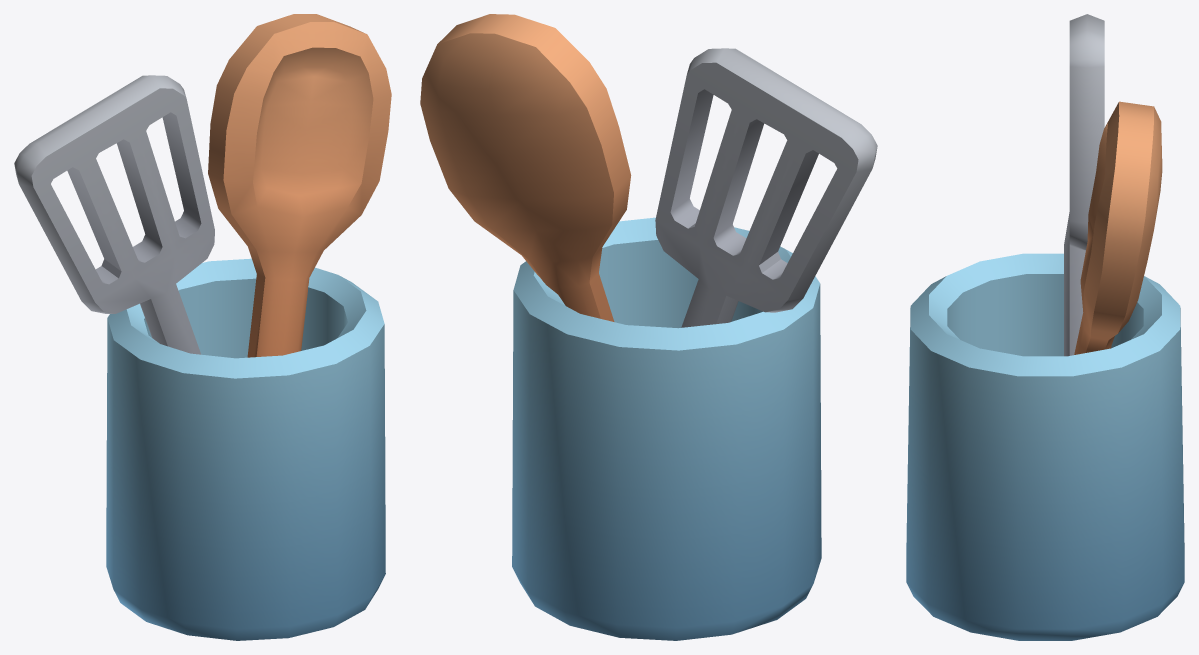
Rendered from Utensils Cup.glb.
3 views of the same model, side by side, from view 1: azimuth 30°, elevation 25°; view 2: azimuth 150°, elevation 25°; view 3: azimuth 270°, elevation 25° (orthographic). The views are drawn at different scales.
Parts seen in each view (by area): view 1: utensils_cup; view 2: utensils_cup; view 3: utensils_cup.
Boxes of the visible parts, x1=… form: utensils_cup: x1=14, y1=14, x2=391, y2=640; utensils_cup: x1=420, y1=14, x2=877, y2=640; utensils_cup: x1=906, y1=14, x2=1184, y2=640.
Bounding box in the file's own units: 0.6455 × 0.8325 × 0.4.
1 material, 1 textured.
